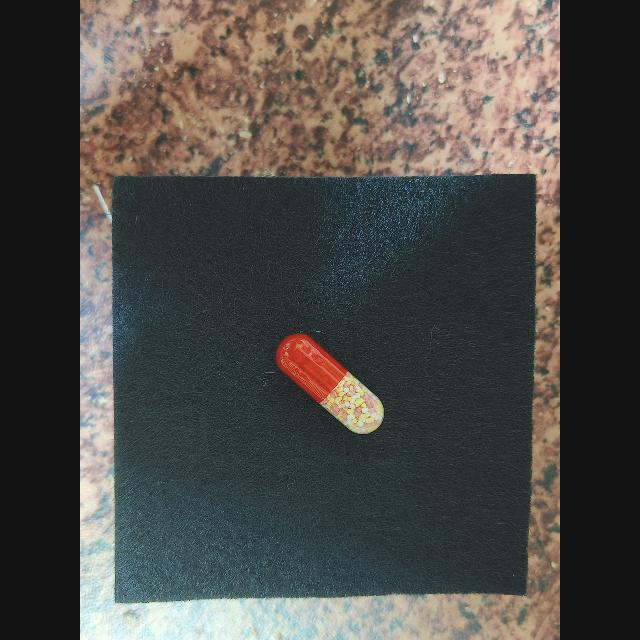Intact Capsule: (276, 333, 384, 434)
